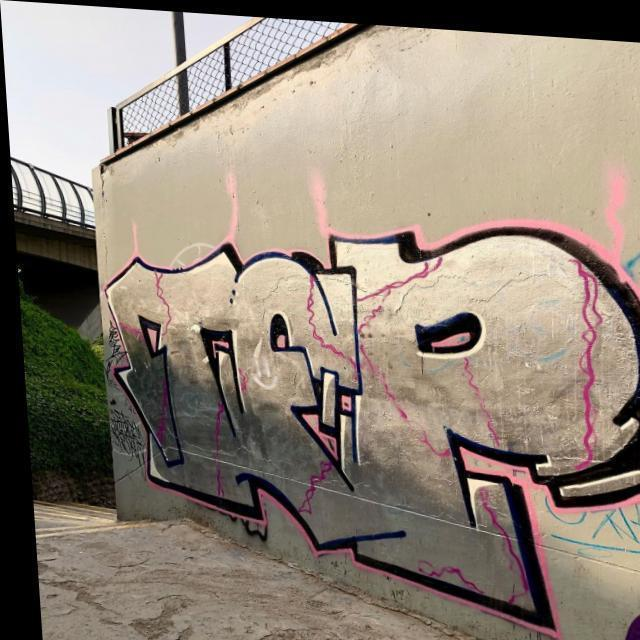nonspitting: (106, 222, 640, 639)
